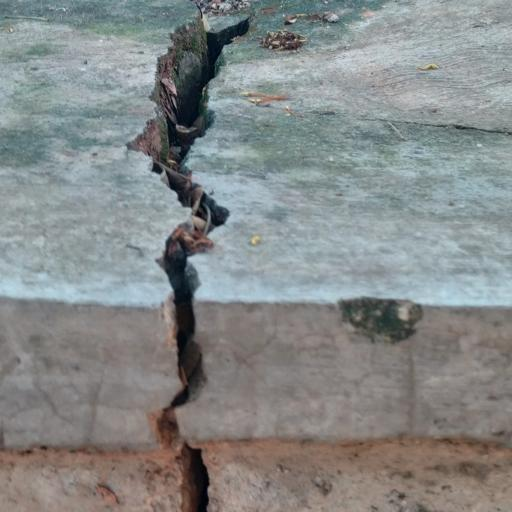major_crack: (136, 0, 252, 512)
